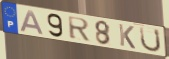8: (94, 20, 112, 46)
9: (47, 13, 64, 38)
A: (19, 9, 46, 36)
K: (118, 23, 137, 51)
R: (67, 16, 91, 42)
U: (139, 26, 163, 53)
